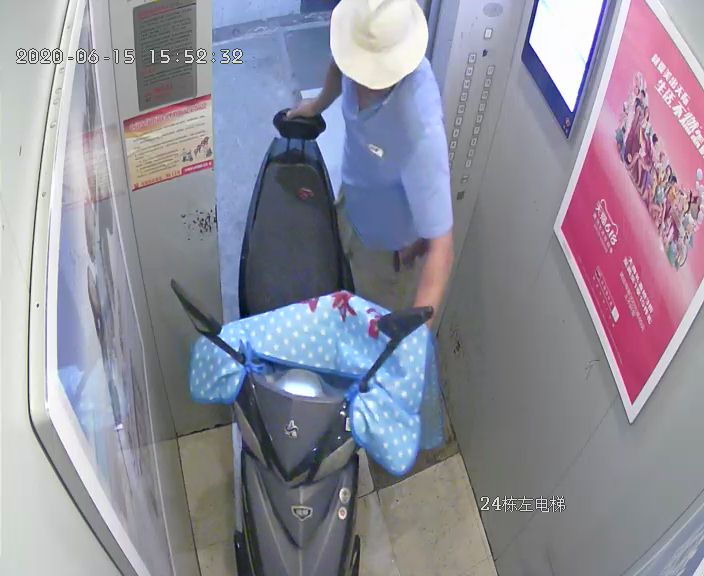Electric-bicycle: (170, 106, 432, 566)
